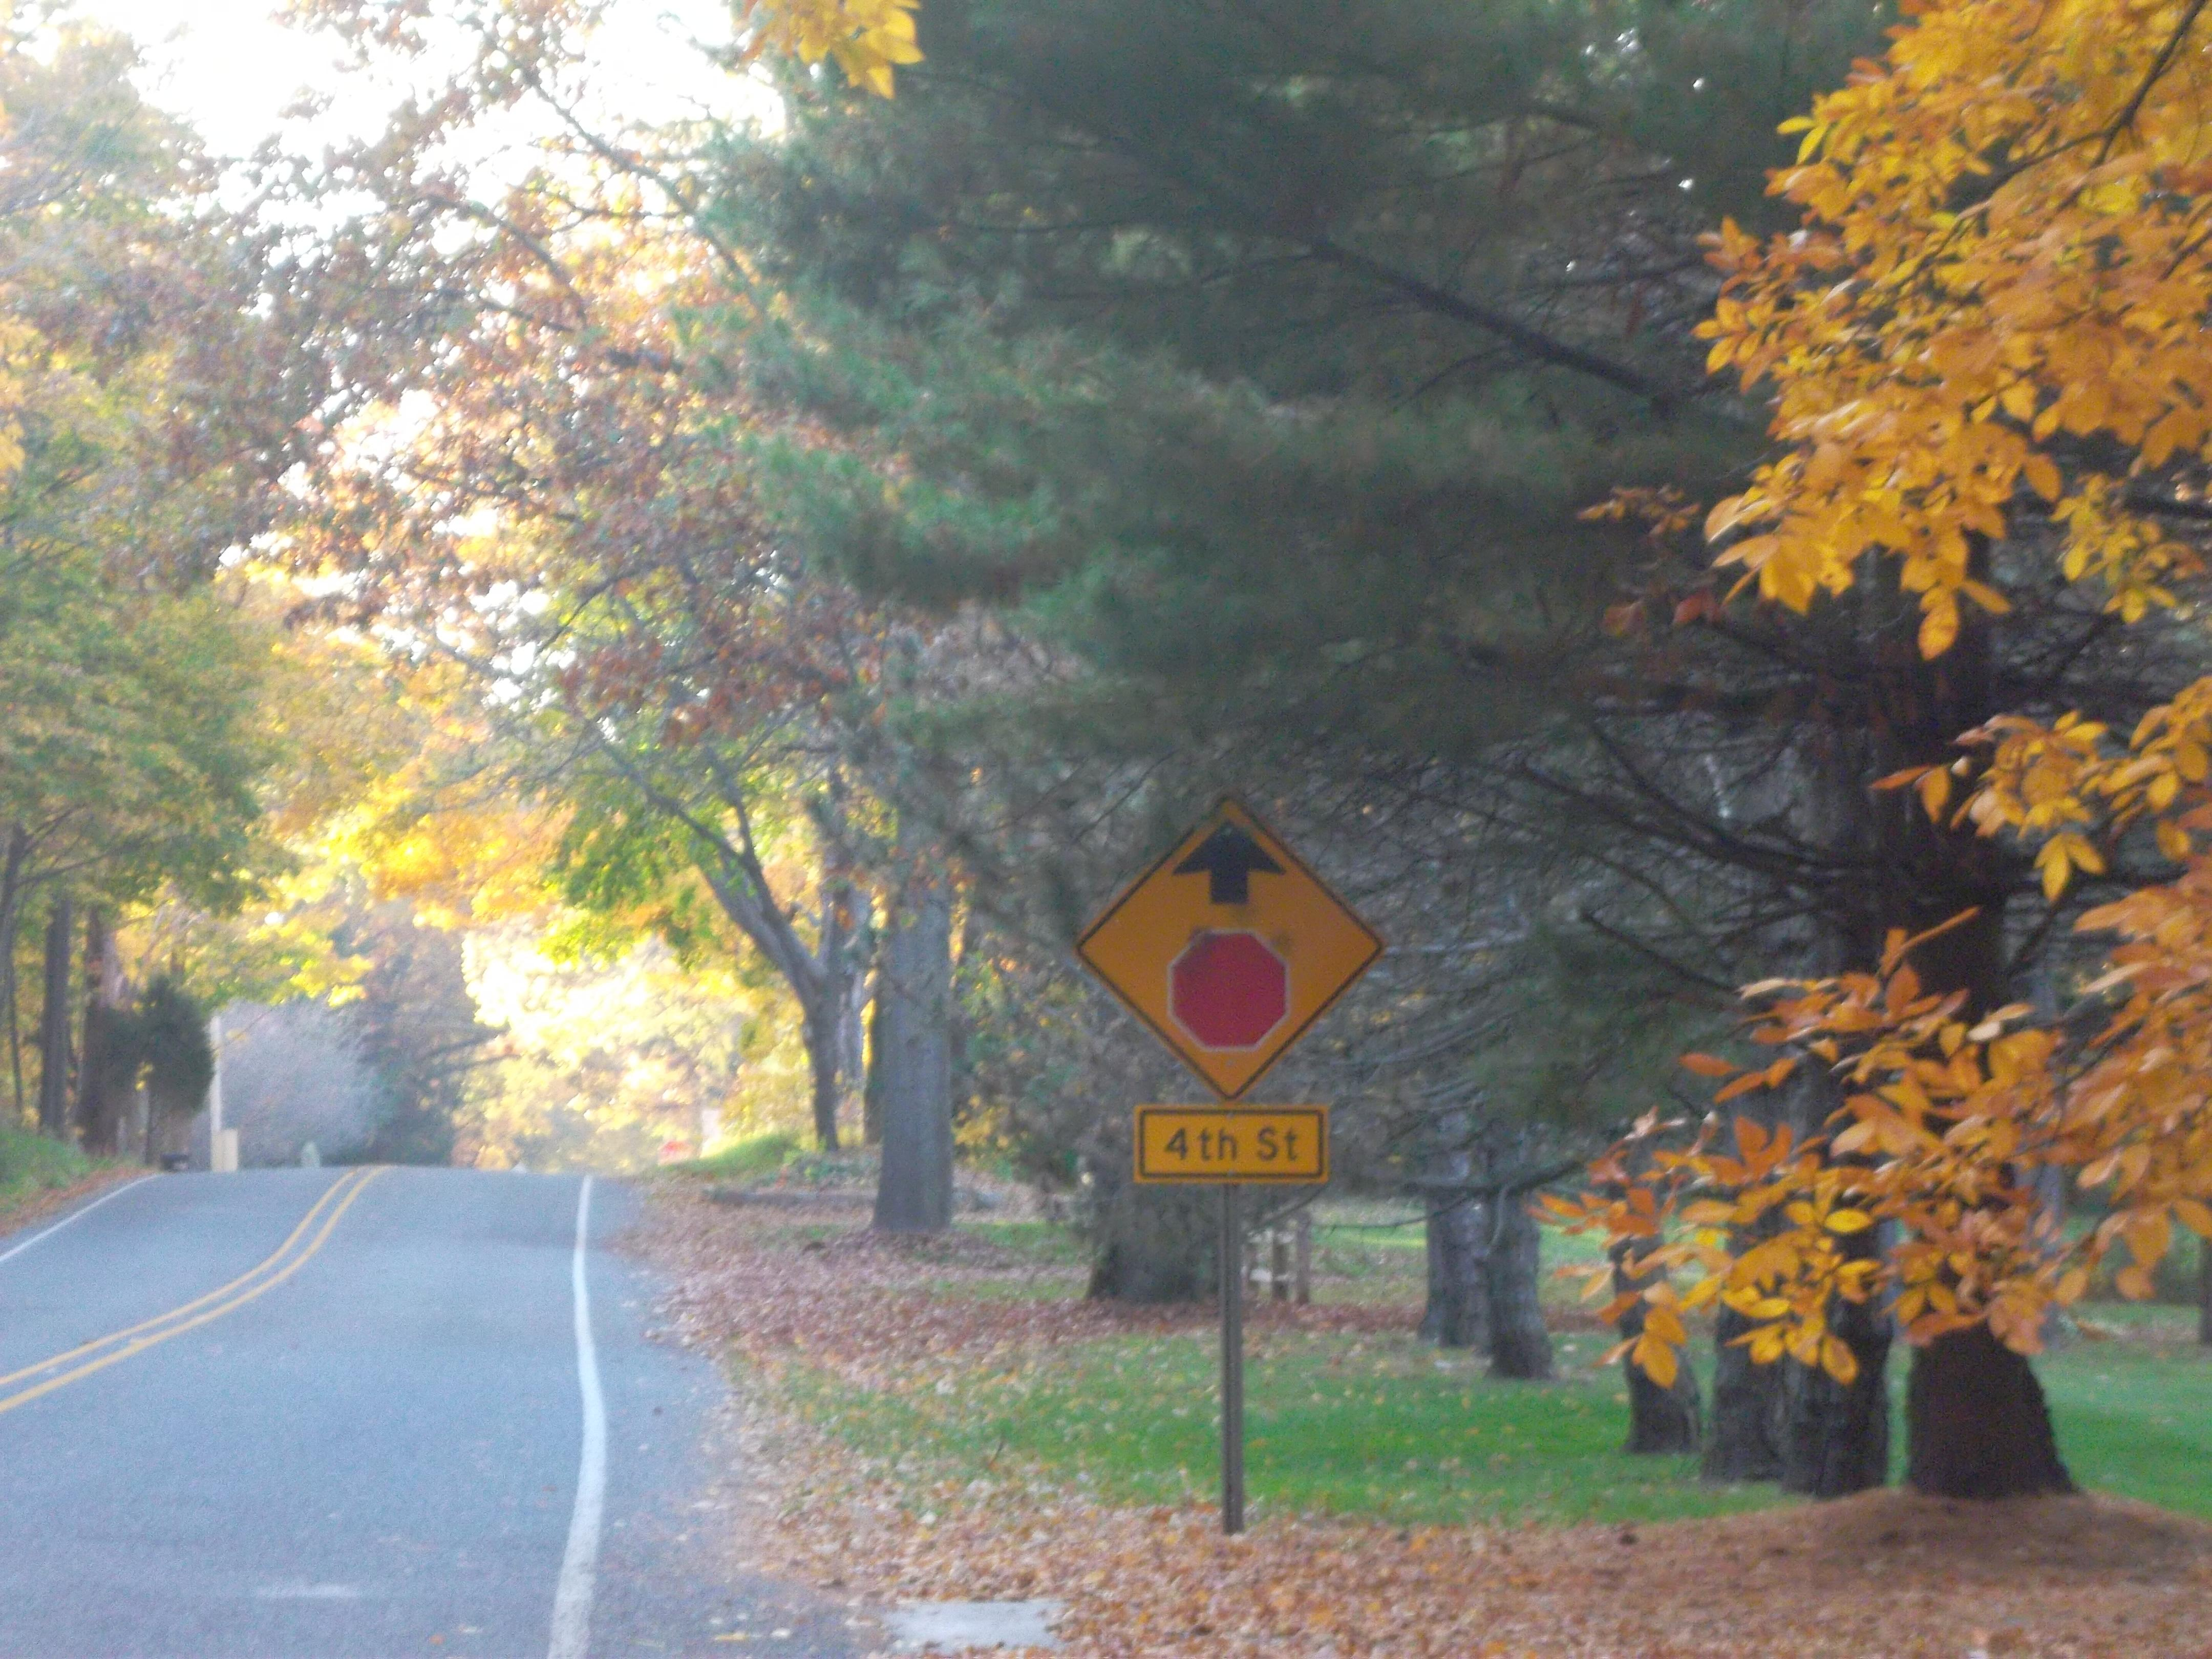stop: (1174, 918, 1298, 1065)
warning: (1076, 810, 1390, 1105), (1132, 1105, 1338, 1183)
